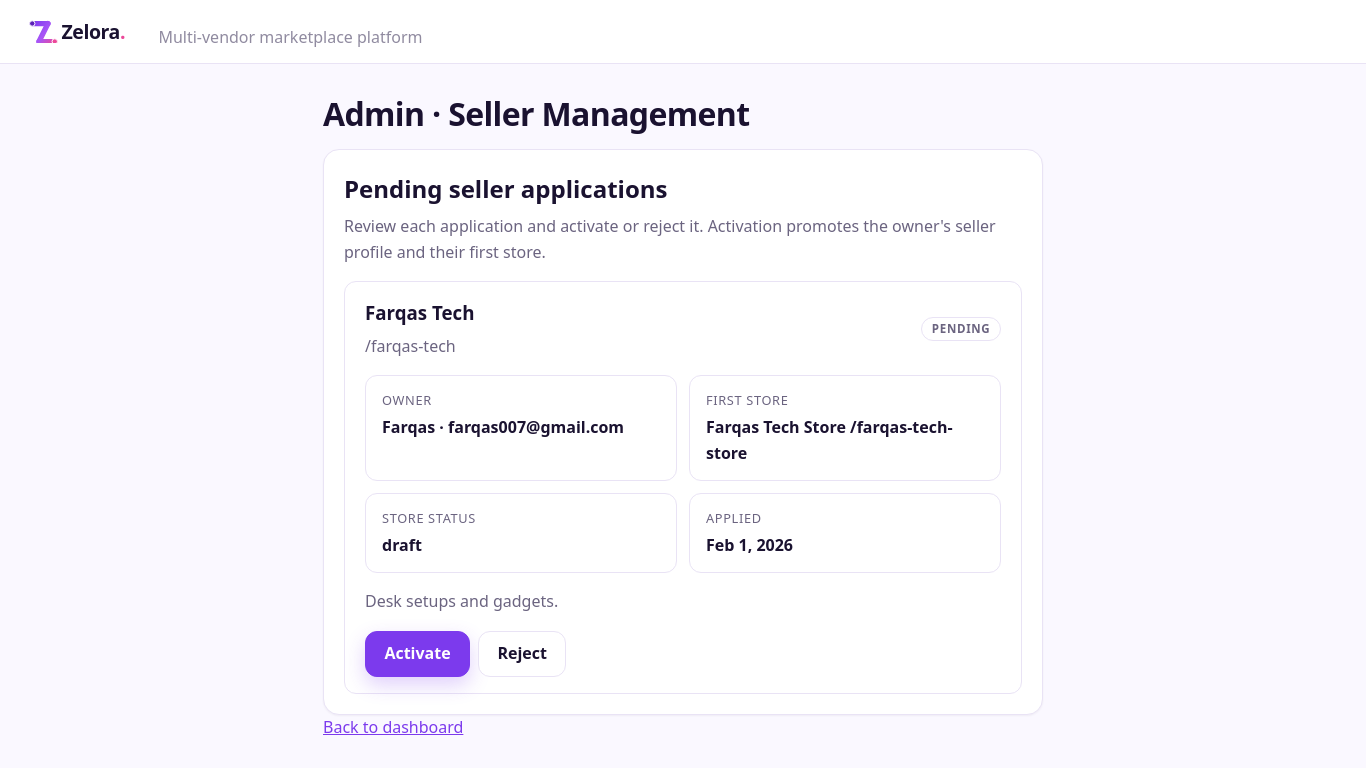
Test case: AdminSellersPage › activating a seller › reports a refused activation and leaves the queue untouched
Click the button with aria-label "Activate Farqas Tech" at (418, 654), box [365, 631, 470, 677]
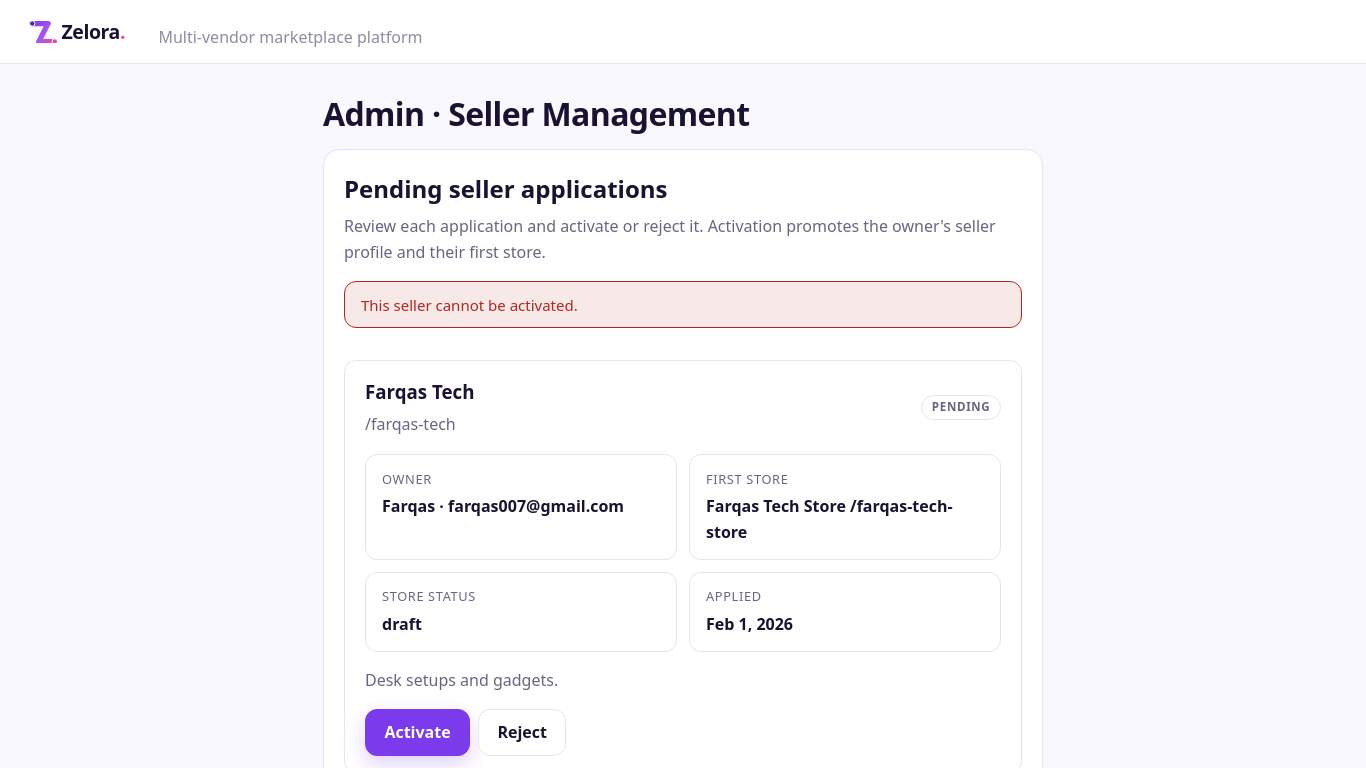
Expected: the button with aria-label "Activate Farqas Tech" is shown, [365, 709, 470, 756]
Now the message reads "This seller cannot be activated.", box [361, 294, 578, 314]
